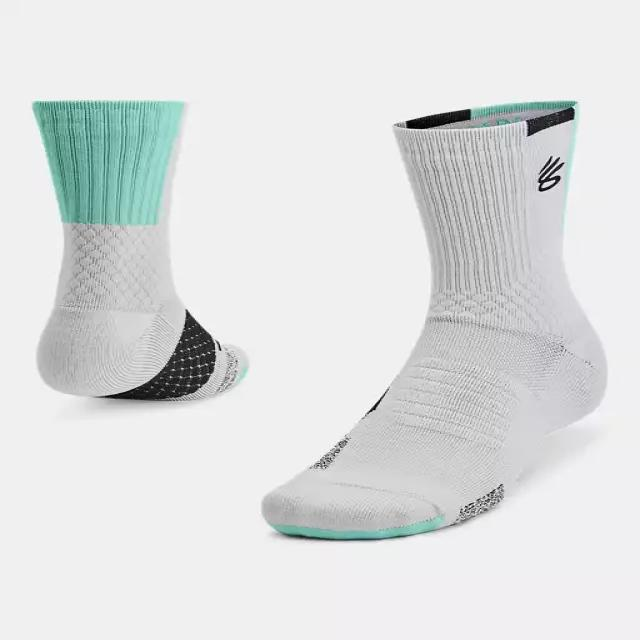sock: (260, 99, 609, 540), (30, 98, 248, 402)
